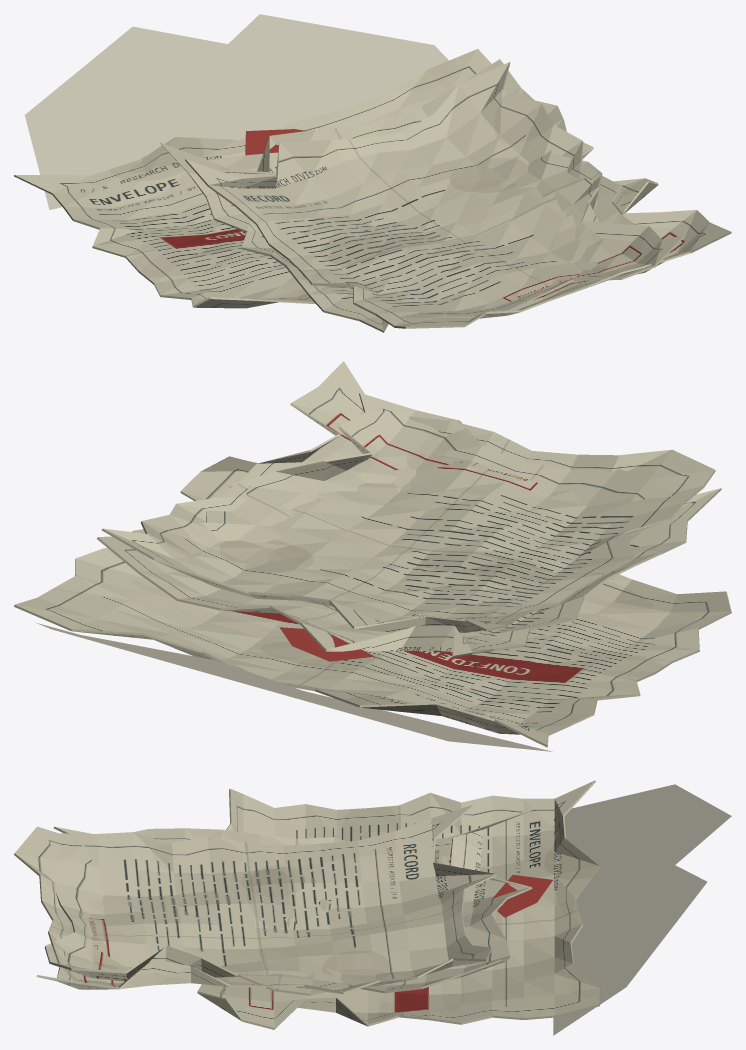
File: DS_Clue_Envelope_Damaged_V01.fbx
3 views of the same model, one above another, from view 1: azimuth 30°, elevation 25°; view 2: azimuth 150°, elevation 25°; view 3: azimuth 270°, elevation 25° (orthographic). The views are drawn at different scales.
Parts seen in each view (by area): view 1: DS_Clue_Envelope_Damaged_V01; view 2: DS_Clue_Envelope_Damaged_V01; view 3: DS_Clue_Envelope_Damaged_V01.
Boxes of the visible parts, left/top/right/bottom form: DS_Clue_Envelope_Damaged_V01: left=14, top=14, right=731, bottom=332; DS_Clue_Envelope_Damaged_V01: left=14, top=361, right=731, bottom=751; DS_Clue_Envelope_Damaged_V01: left=14, top=780, right=731, bottom=1035.
Bounding box in the file's own units: 70.96 × 12.52 × 88.43.
Materials: 4 (2 with a texture image).
